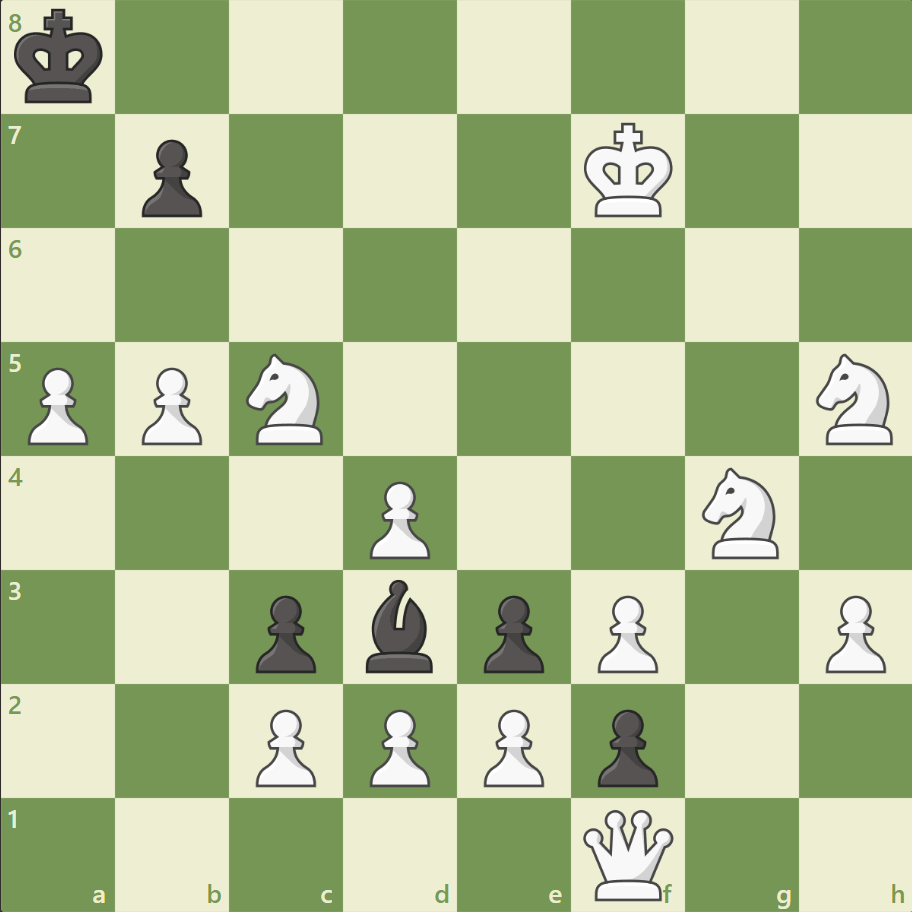K: (579, 117, 679, 225)
N: (692, 461, 789, 564), (238, 348, 335, 450), (806, 348, 903, 450)
P: (20, 359, 95, 450), (133, 359, 208, 450), (247, 700, 322, 791), (474, 700, 549, 791), (361, 473, 435, 564), (588, 586, 662, 677), (815, 586, 889, 677), (361, 700, 435, 791)
Q: (578, 804, 677, 903)
b: (358, 574, 442, 676)
k: (11, 4, 111, 112)
p: (133, 132, 208, 223), (247, 586, 322, 677), (474, 586, 549, 677), (588, 700, 662, 791)
